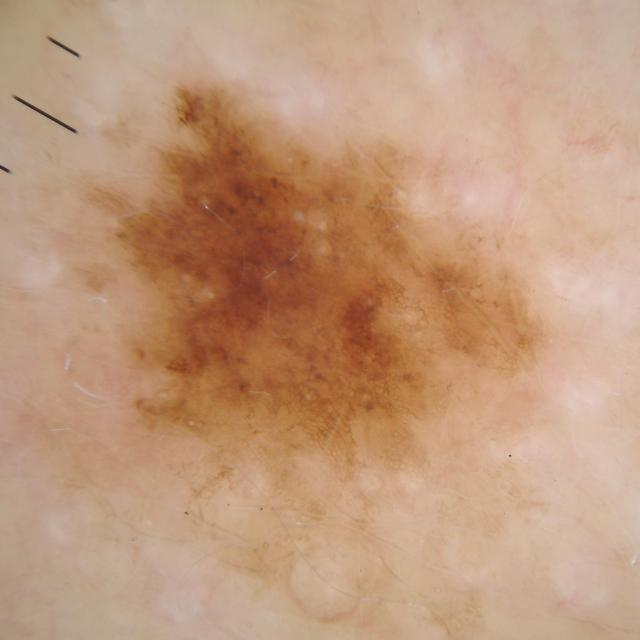Skin-Cancer Melanoma: (16, 16, 616, 561)
